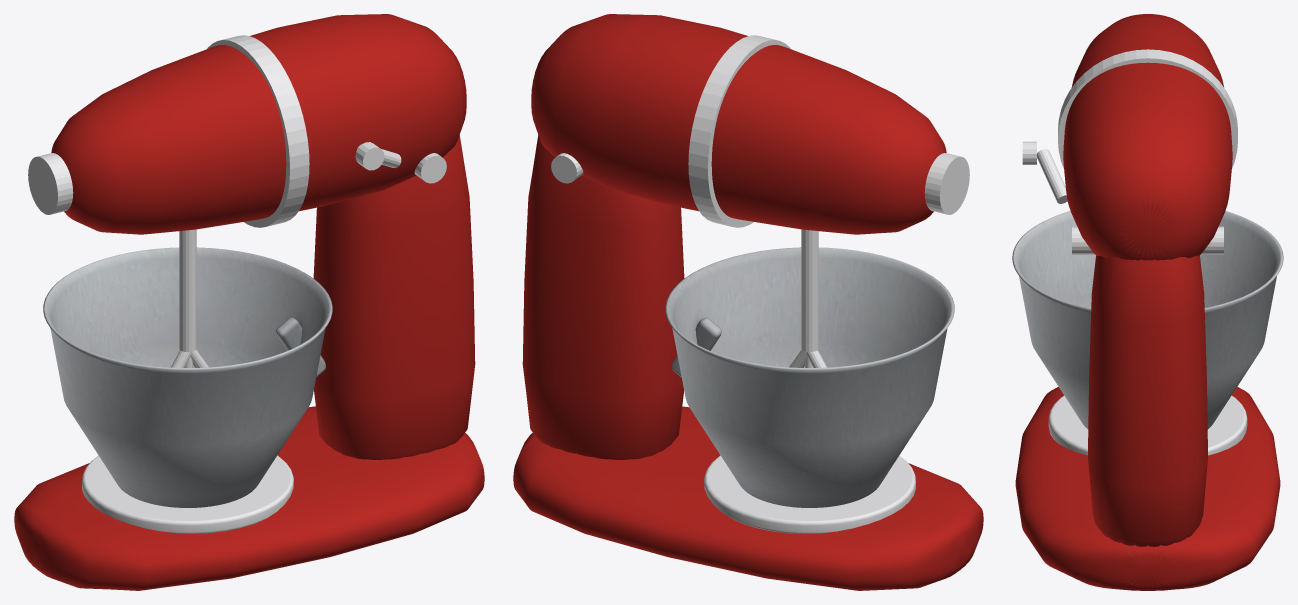
File: red.glb
3 renders of one model, left to right at view 1: azimuth 30°, elevation 25°; view 2: azimuth 150°, elevation 25°; view 3: azimuth 270°, elevation 25°, orthographic. The views are drawn at different scales.
Visible parts, largest first — view 1: paint_primary, steel, chrome; view 2: paint_primary, steel, chrome; view 3: paint_primary, steel, chrome.
Part boxes in pixels (x1,y1,x2,y2): paint_primary: (14,14,484,590); steel: (43,247,332,507); chrome: (28,35,446,533); paint_primary: (513,14,983,590); steel: (665,247,954,507); chrome: (551,35,969,534); paint_primary: (1015,14,1280,590); steel: (1012,211,1283,429); chrome: (1022,49,1247,455).
Bounding box in the file's own units: 0.3961 × 0.425 × 0.232.
Materials: 3 (1 with a texture image).
